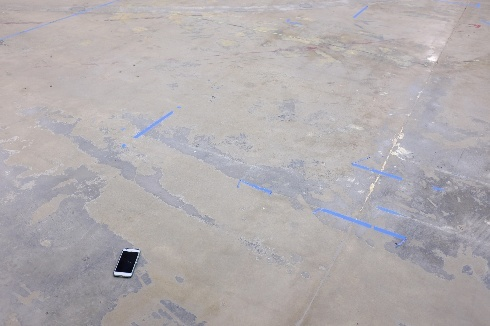phone: (103, 246, 152, 278)
